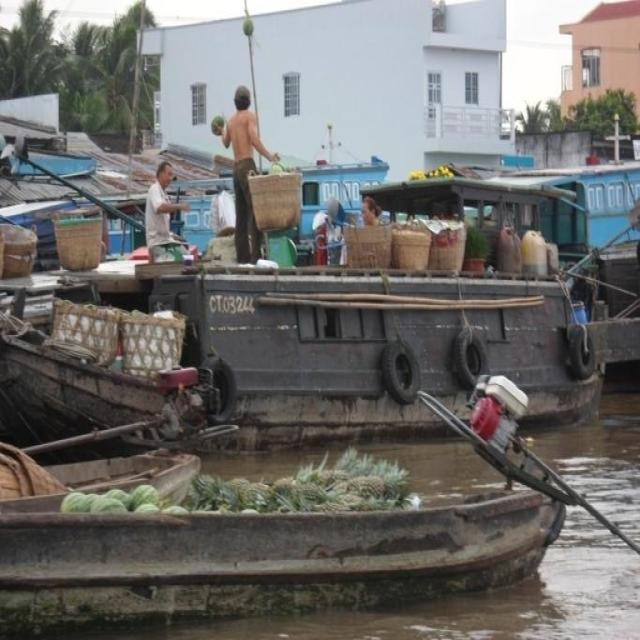boat: (0, 269, 608, 435), (0, 453, 578, 610)
